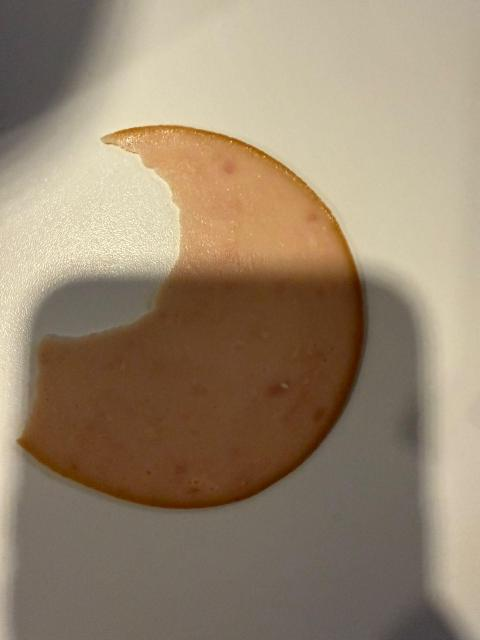Organik: (17, 119, 369, 508)
